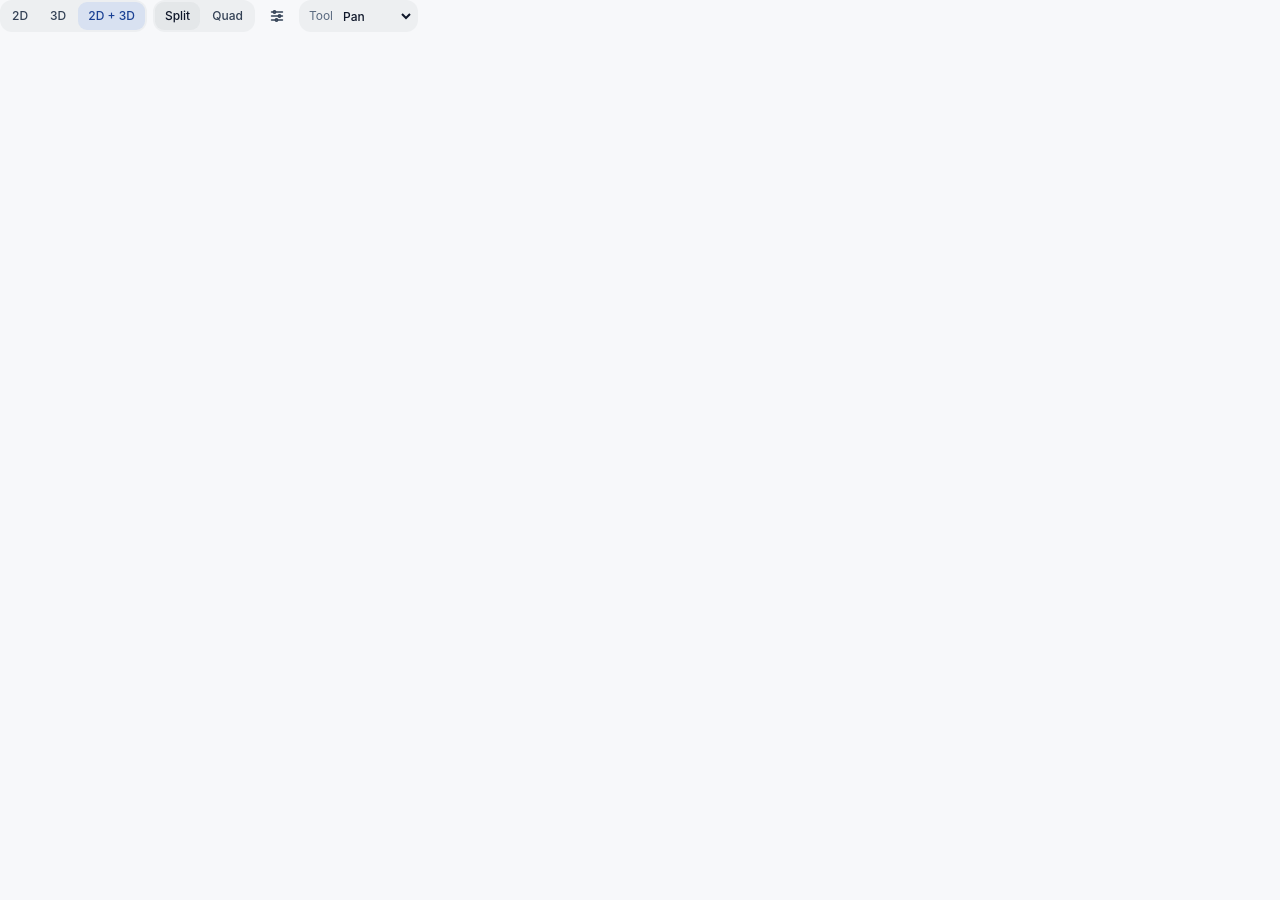
Scenario: view control semantics › keeps plane and base selects one click away behind View options
The image size is (1280, 900).
Click the button named "View options". click: [277, 16]
box: [261, 0, 293, 32]
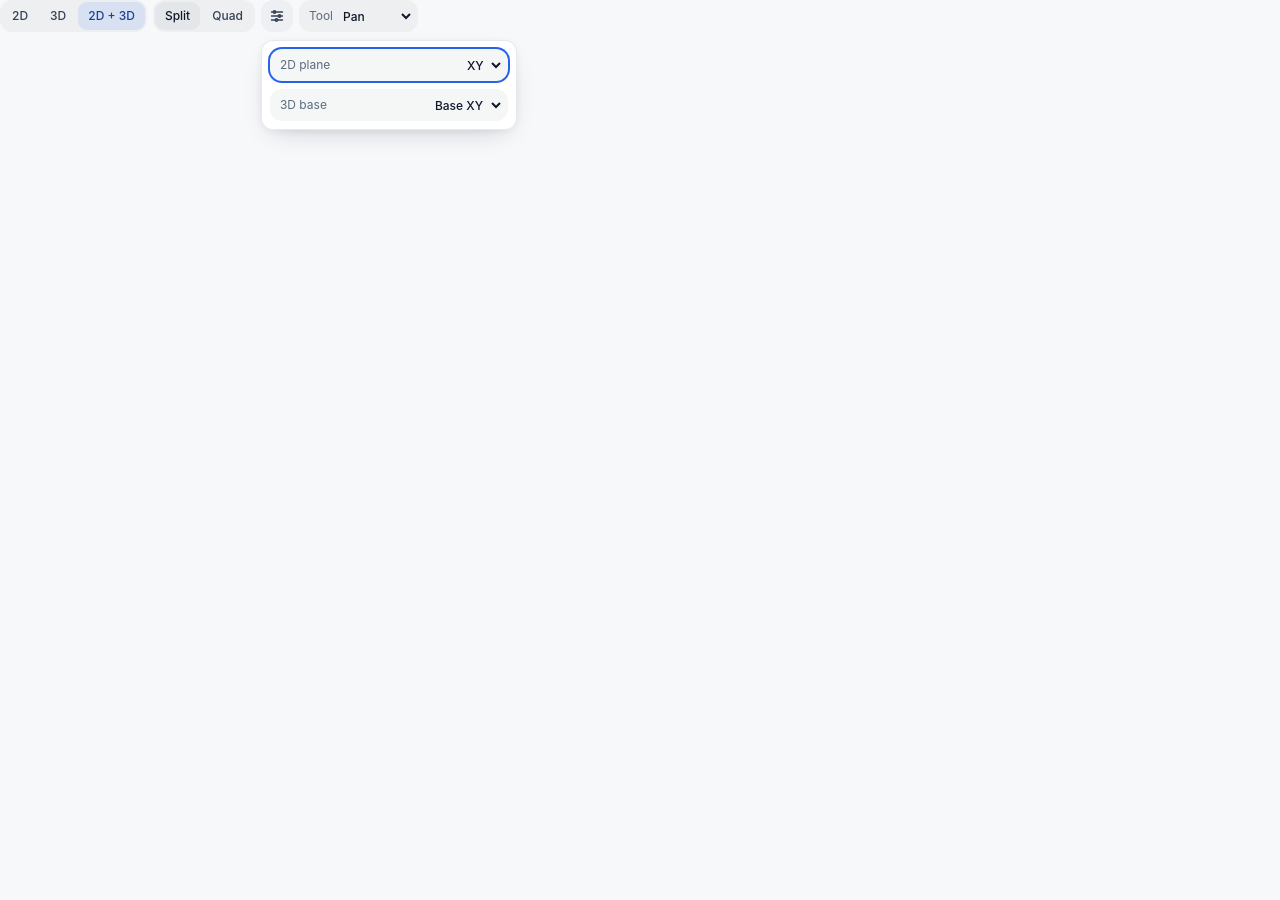
Expected: the dropdown with test id "toolbar-2d-plane-select" is shown, [461, 51, 504, 79]
Expected: the dropdown with test id "toolbar-3d-base-select" is shown, [429, 91, 504, 119]
